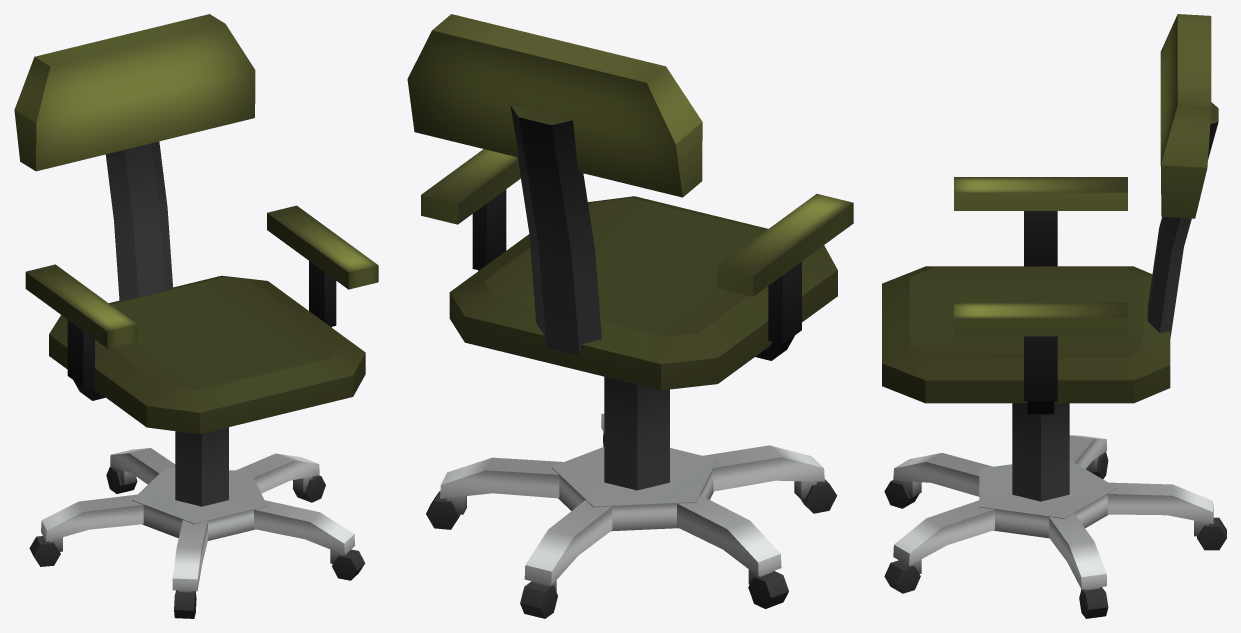
File: Chair_DeskChair_Olive.fbx
3 views of the same model, side by side, from view 1: azimuth 30°, elevation 25°; view 2: azimuth 150°, elevation 25°; view 3: azimuth 270°, elevation 25° (orthographic). The views are drawn at different scales.
Parts seen in each view (by area): view 1: Chair_DeskChair_Olive; view 2: Chair_DeskChair_Olive; view 3: Chair_DeskChair_Olive.
Boxes of the visible parts, x1,y1,x2,y2 form: Chair_DeskChair_Olive: (14,14,378,618); Chair_DeskChair_Olive: (407,14,853,618); Chair_DeskChair_Olive: (882,14,1226,618).
Size of the model in its own units: 69.71 by 104 by 66.73.
